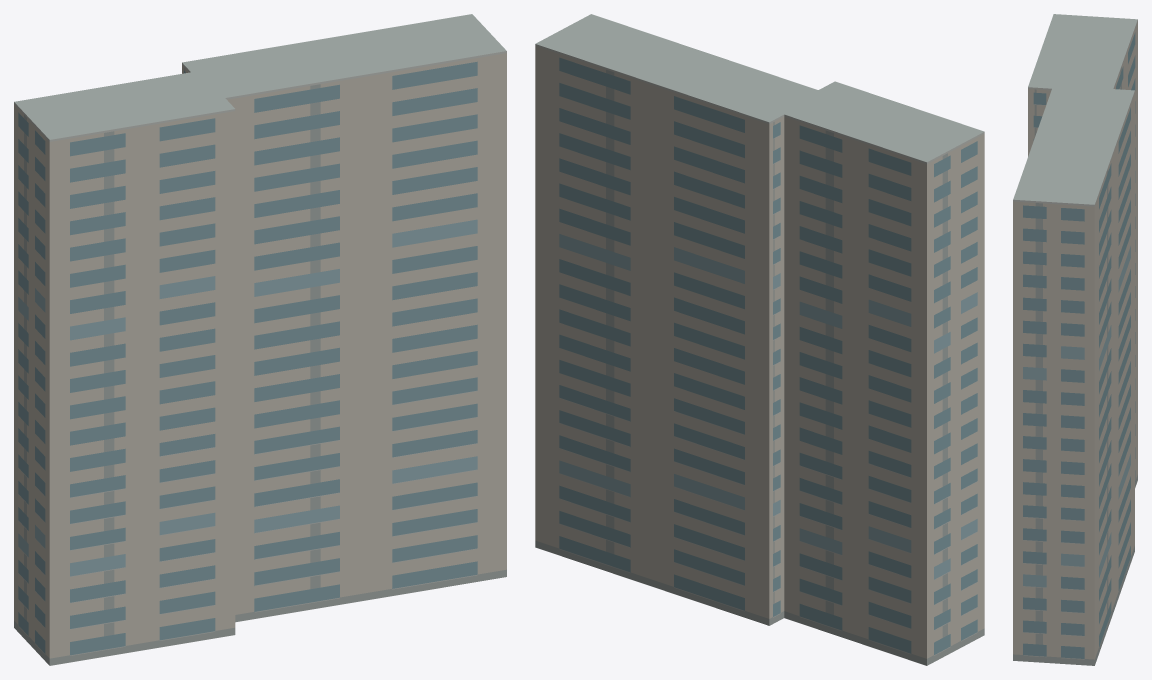
File: residential-8a6f4a68-2b8d-4a83-ba17-6a872091a578.glb
3 views of the same model, side by side, from view 1: azimuth 30°, elevation 25°; view 2: azimuth 150°, elevation 25°; view 3: azimuth 270°, elevation 25° (orthographic). The views are drawn at different scales.
Parts seen in each view (by area): view 1: residential-8a6f4a68-2b8d-4a83-ba17-6a872091a578.tmp; view 2: residential-8a6f4a68-2b8d-4a83-ba17-6a872091a578.tmp; view 3: residential-8a6f4a68-2b8d-4a83-ba17-6a872091a578.tmp.
Part boxes in pixels (x1,y1,x2,y2): residential-8a6f4a68-2b8d-4a83-ba17-6a872091a578.tmp: (14,14,506,665); residential-8a6f4a68-2b8d-4a83-ba17-6a872091a578.tmp: (535,14,984,665); residential-8a6f4a68-2b8d-4a83-ba17-6a872091a578.tmp: (1013,14,1137,665).
Size of the model in its own units: 55.03 by 62 by 15.22.
